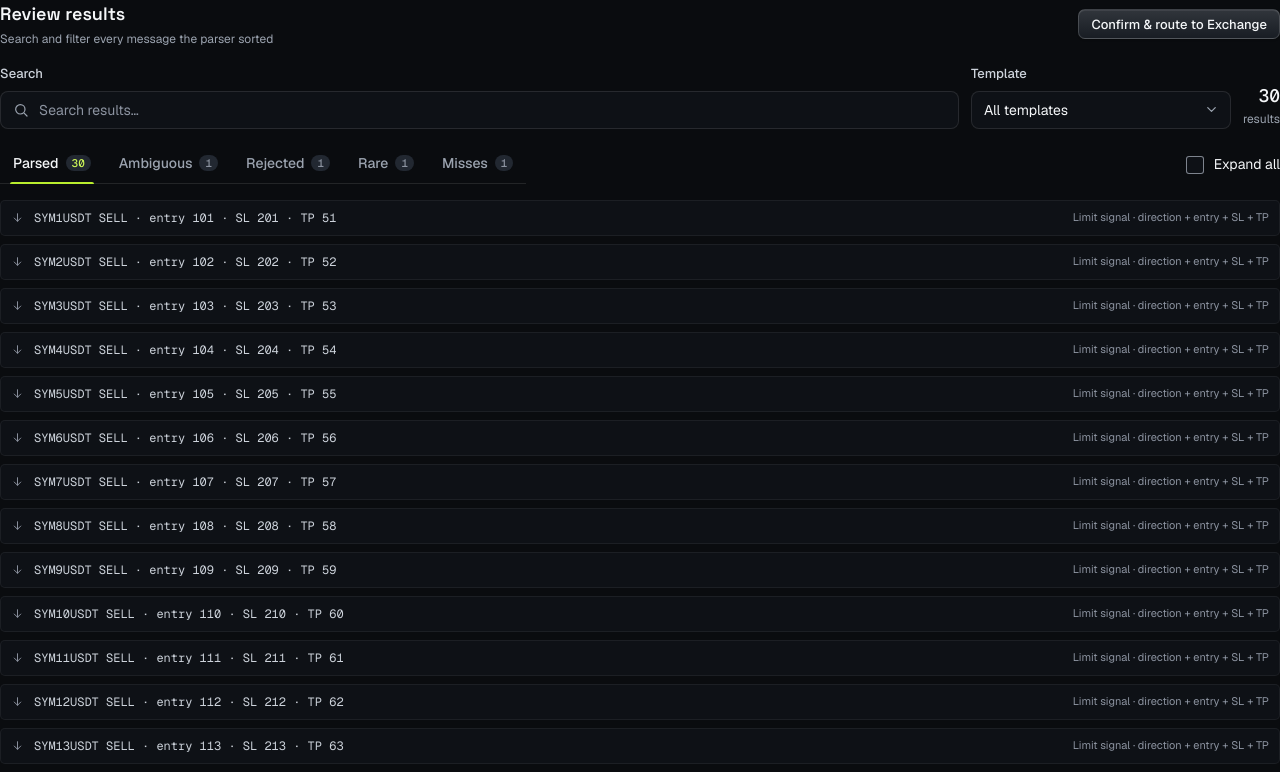
it: AuditReview › expands every visible row via the Expand all checkbox
This screenshot has width=1280, height=772.
Click the checkbox labelled "Expand all" at (1233,164), box [1186,155,1279,174]
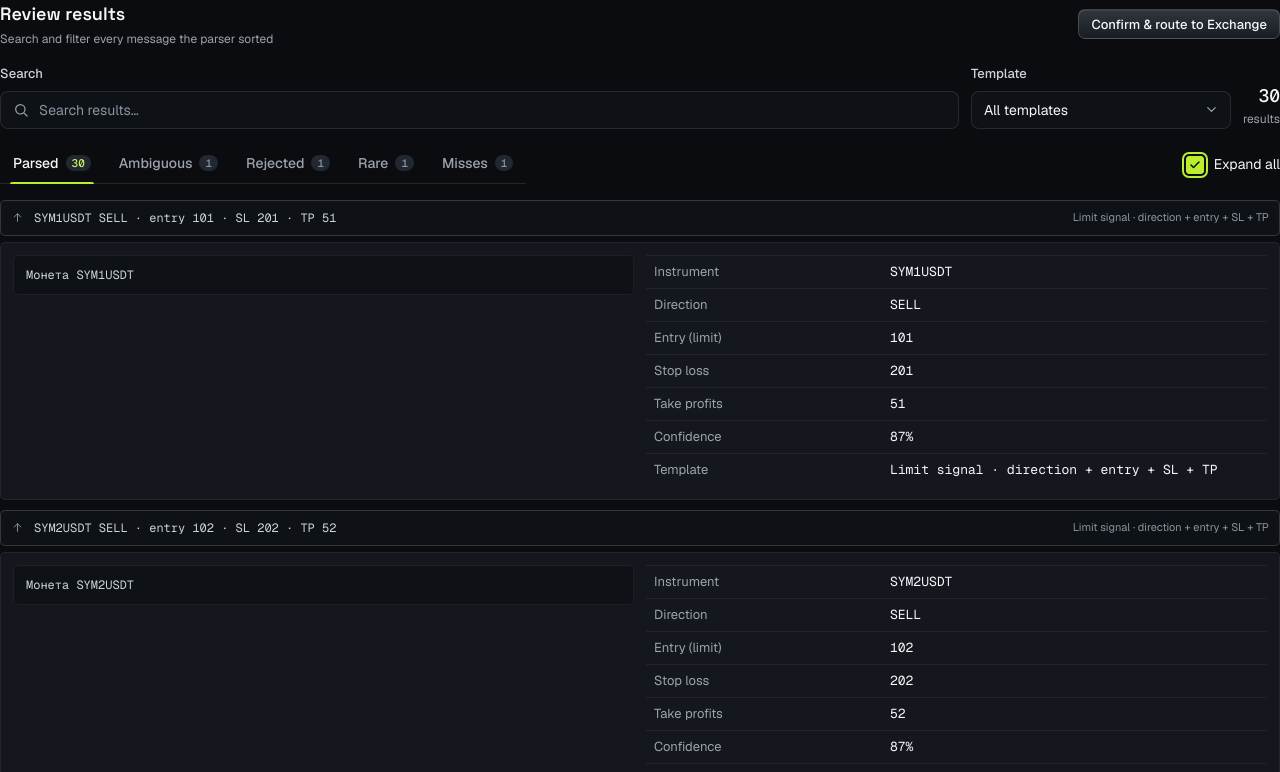
Now the text "Монета SYM1USDT" is shown, box [13,255,634,295]
Now the text "Монета SYM2USDT" is shown, box [13,565,634,605]
